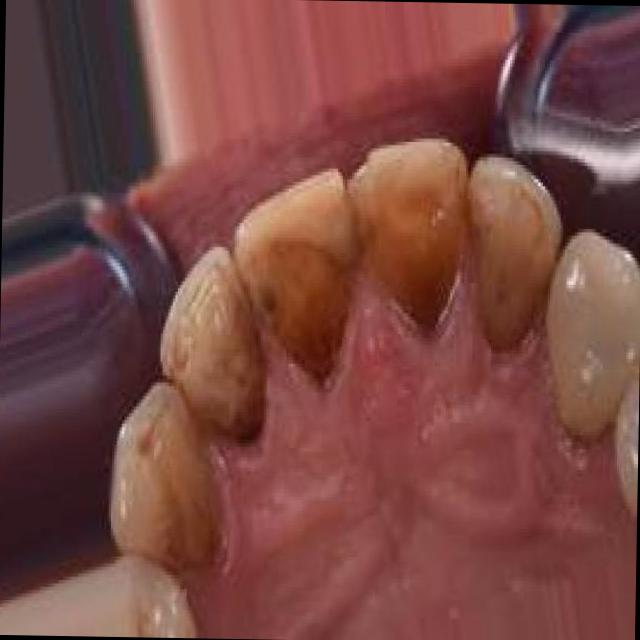calculus: (256, 150, 358, 394), (350, 124, 463, 334), (194, 233, 277, 468), (464, 152, 554, 357)
